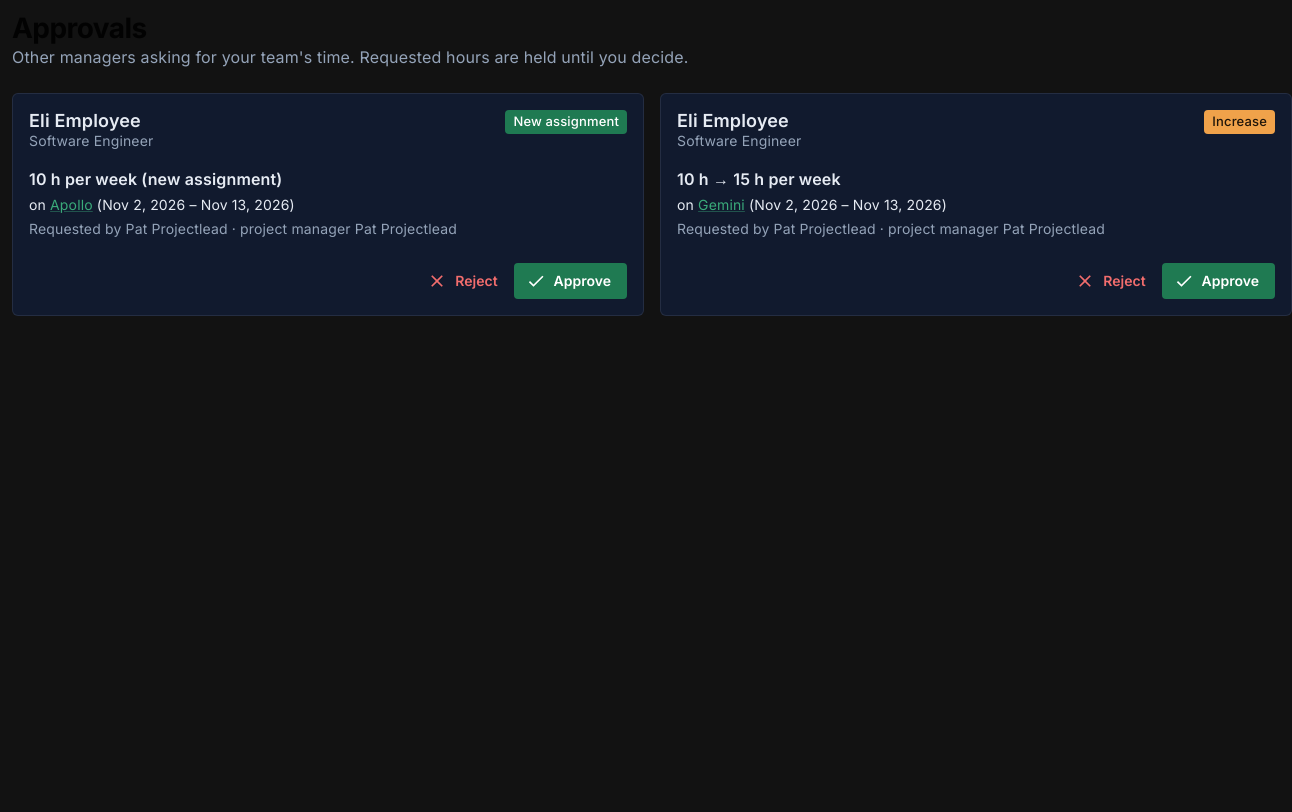
Test: ApprovalsPage › approves a request and refreshes the list
This screenshot has width=1292, height=812.
What coordinates should you click on to do the following:
click the button "Approve" below "10 h per week (new assignment)"
I would click on:
 (570, 281)
Its box is [514, 263, 627, 299].
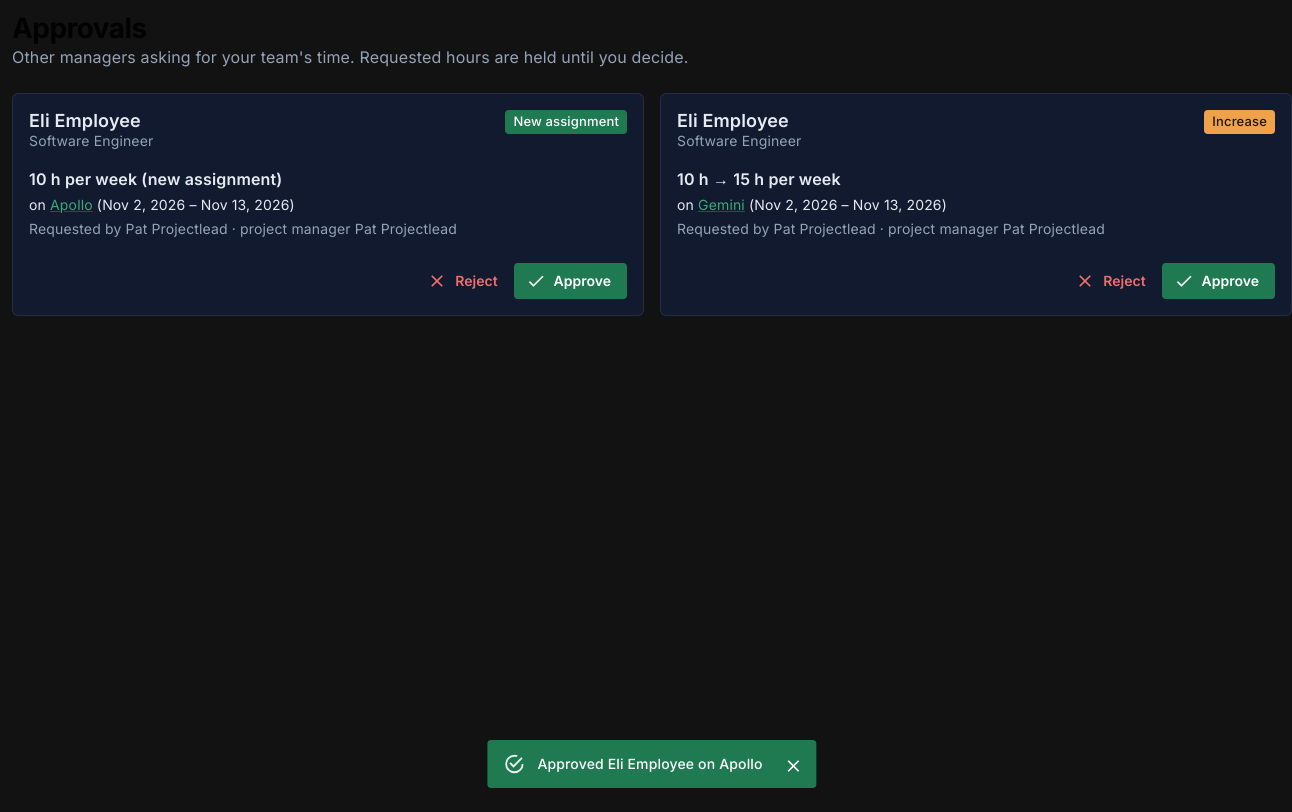
Now the text "Approved Eli Employee on Apollo" is shown, box [537, 755, 763, 772]
